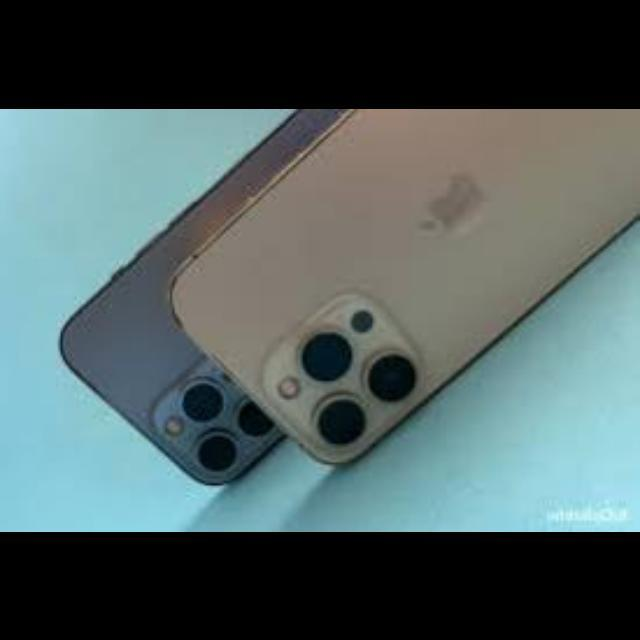Phone: (167, 108, 639, 466), (59, 110, 340, 484)
